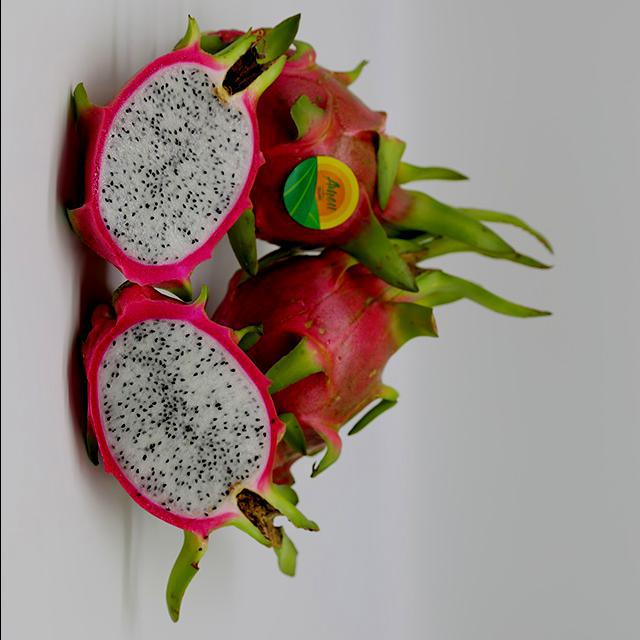trang: (205, 26, 547, 290), (71, 286, 325, 552), (227, 230, 492, 483), (62, 28, 280, 292)
